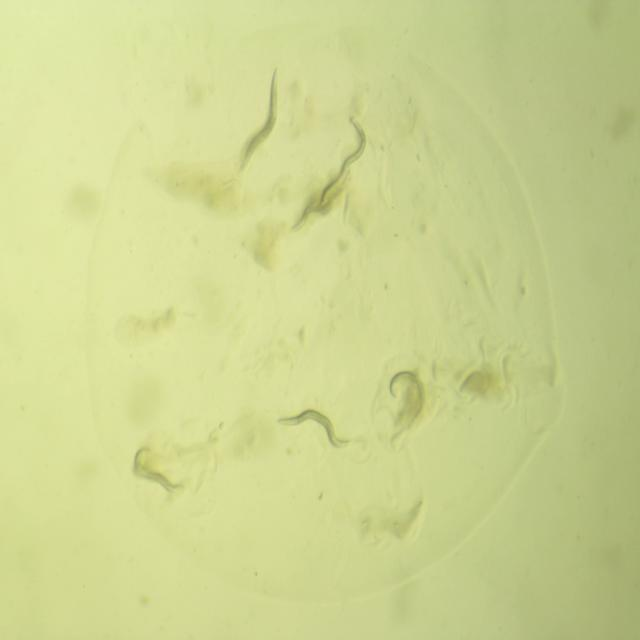worm: (229, 61, 288, 187), (264, 386, 354, 464), (312, 109, 373, 215), (372, 348, 432, 450), (114, 436, 194, 506), (286, 164, 353, 244)
